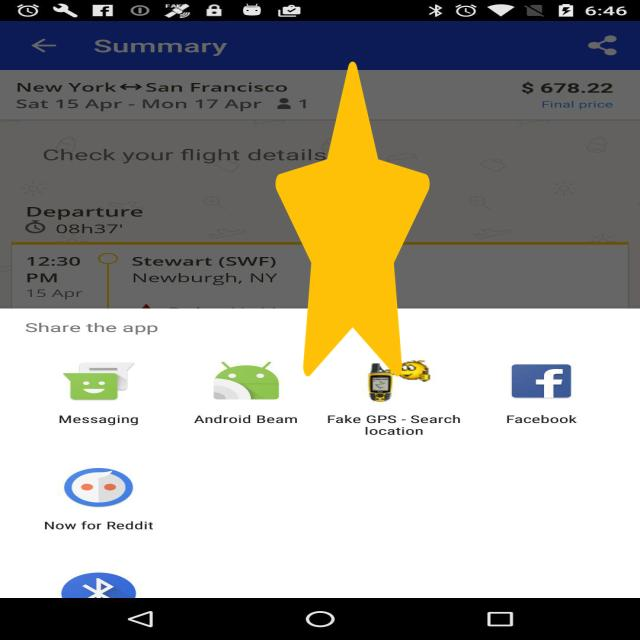forced continuity: (276, 61, 430, 377)
